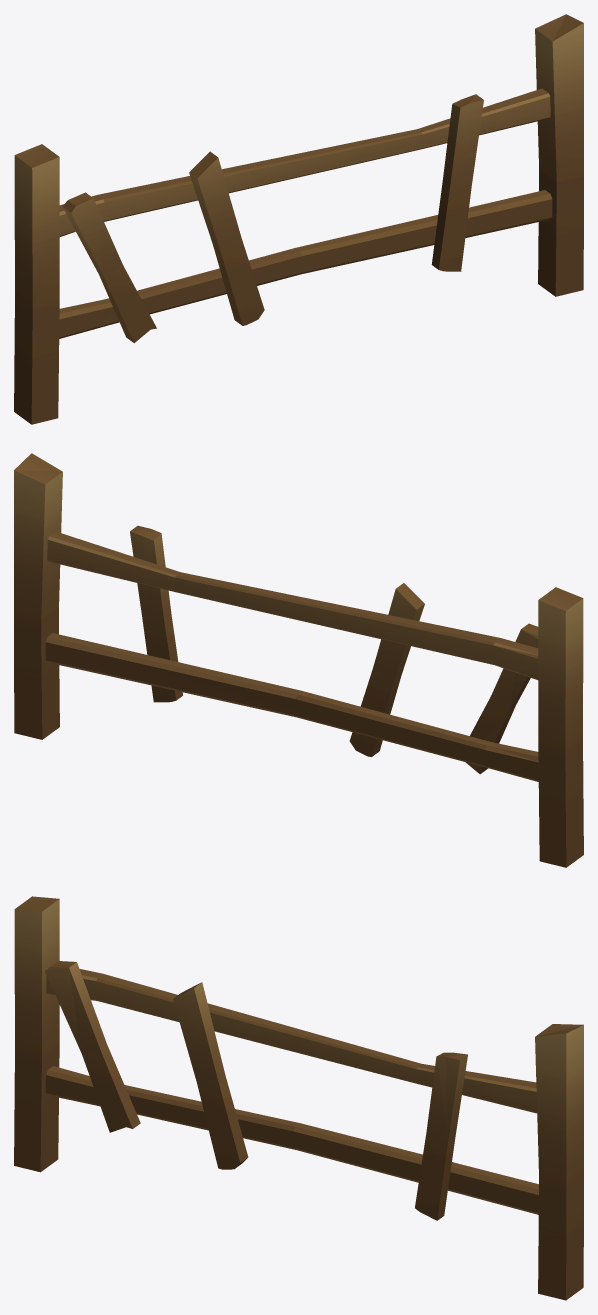
Rendered from pack04_fences_07.fbx.
3 views of the same model, one above another, from view 1: azimuth 30°, elevation 25°; view 2: azimuth 150°, elevation 25°; view 3: azimuth 330°, elevation 25° (orthographic).
Visible parts, largest first — view 1: Big_Fence_15; view 2: Big_Fence_15; view 3: Big_Fence_15.
Part boxes in pixels (x1=…): Big_Fence_15: x1=14, y1=14, x2=583, y2=424; Big_Fence_15: x1=14, y1=453, x2=583, y2=867; Big_Fence_15: x1=14, y1=896, x2=583, y2=1300.
Bounding box in the file's own units: 134 × 61.83 × 9.22.
Materials: 1 (1 with a texture image).
